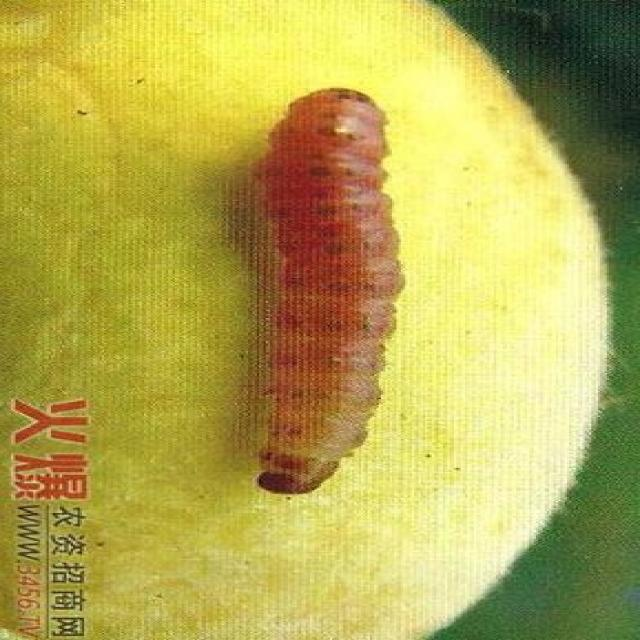peach borer: (228, 89, 407, 499)
